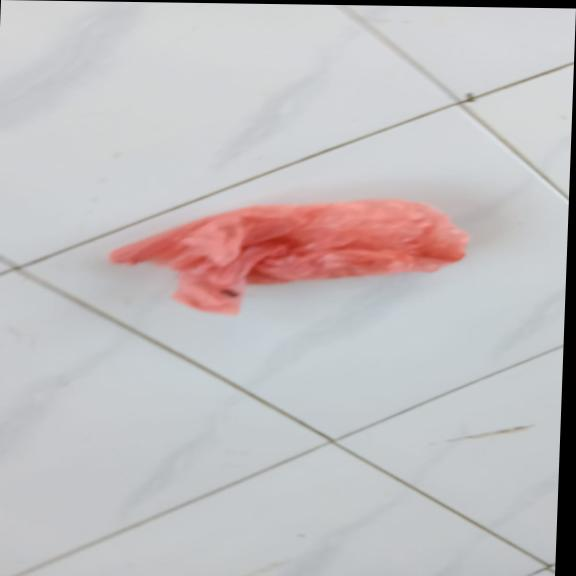Plastik: (104, 195, 470, 320)
